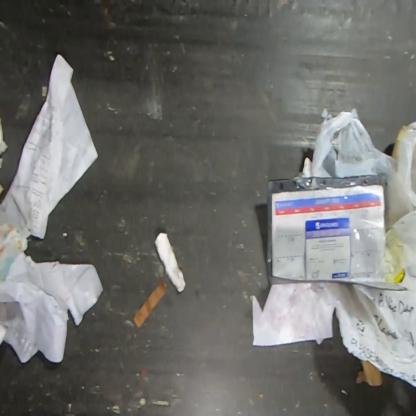soft_plastic: (313, 108, 415, 413), (266, 176, 388, 288)
